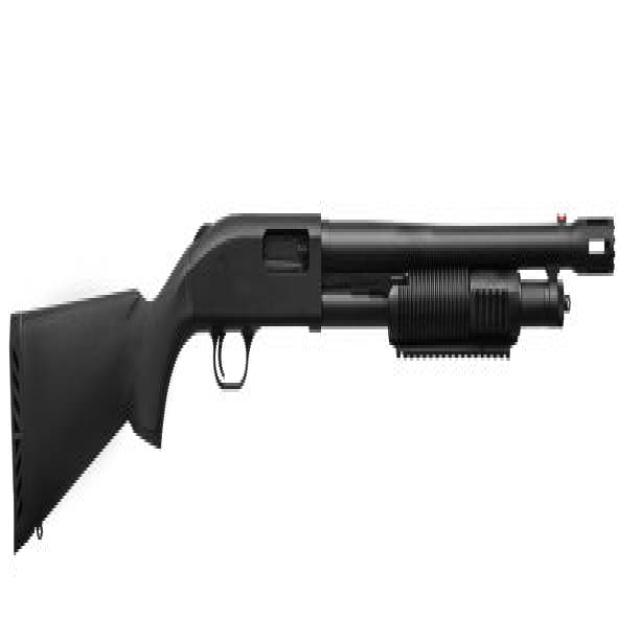rifle: (8, 196, 621, 577)
